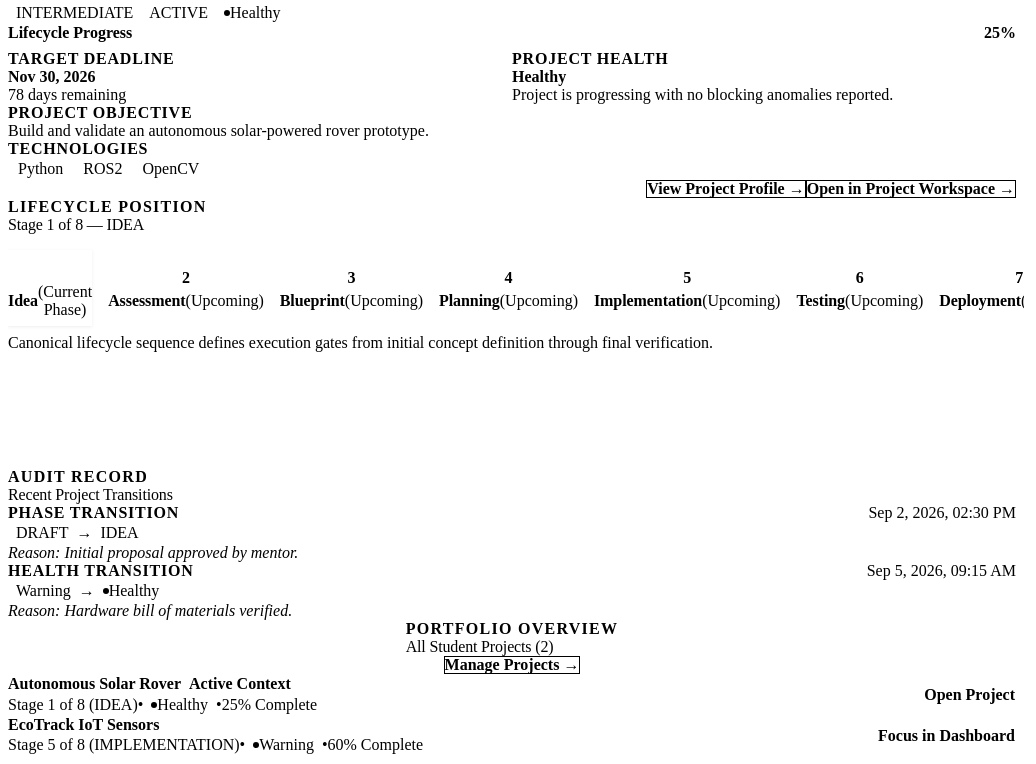
Test: S01 — Student Dashboard › 12. [B4-02] prevents race condition: stale project overview response cannot overwrite newer selection
(page scrolled)
Click the button with aria-label "view ecotrack iot sensors overview in dashboard". click: (947, 736)
box: 877,727 -> 1016,745
(page scrolled)
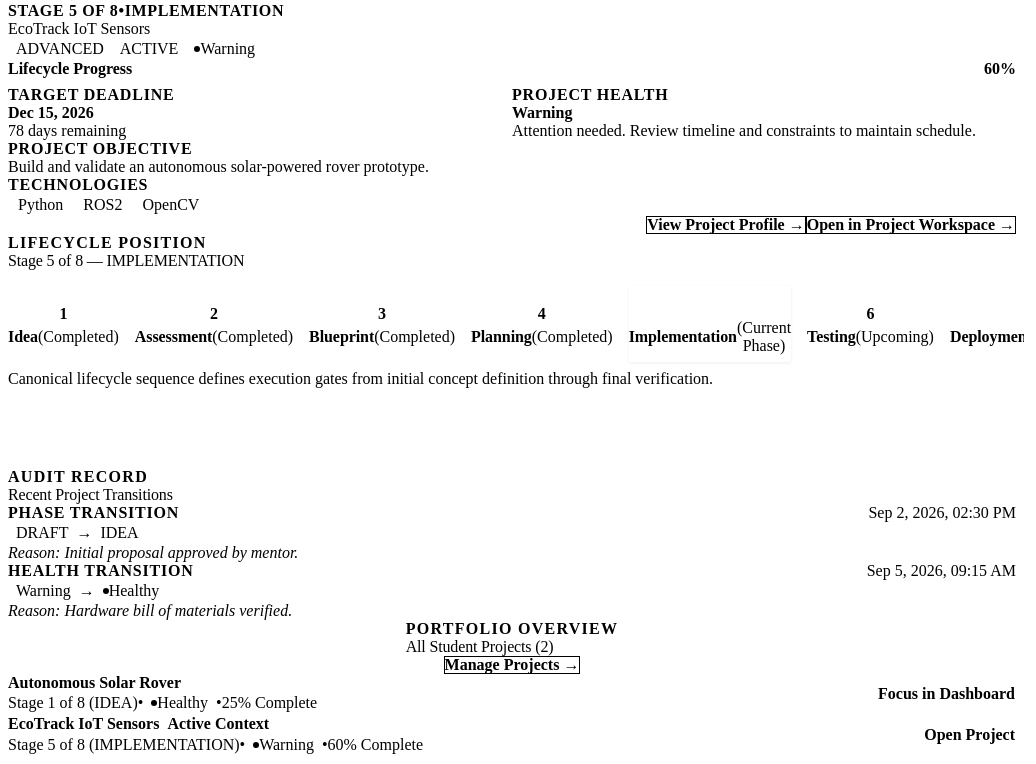
Click the button with aria-label "view autonomous solar rover overview in dashboard". click: (947, 694)
box: 877,685 -> 1016,703
(page scrolled)
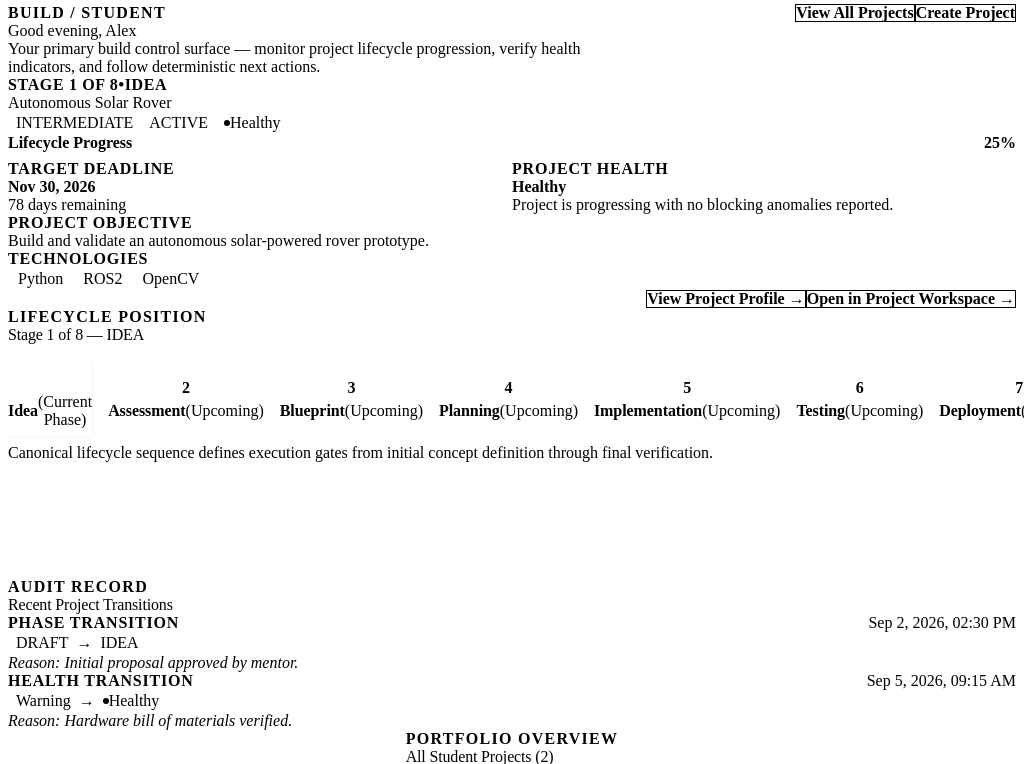
Now the heading "Autonomous Solar Rover" is shown, box 8,94 -> 172,112
